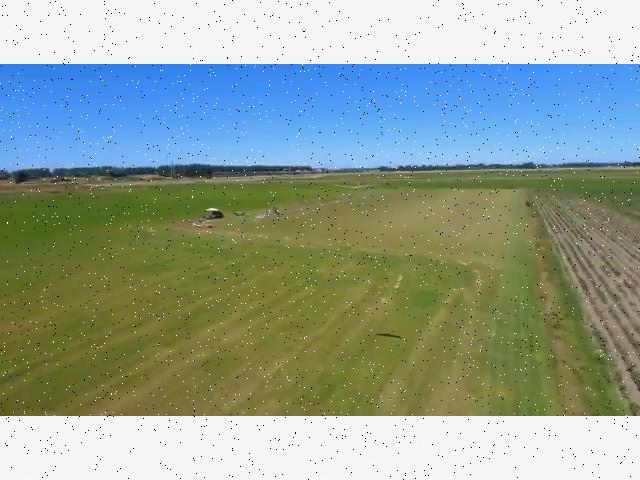Anti-Drone: (330, 178, 390, 200)
